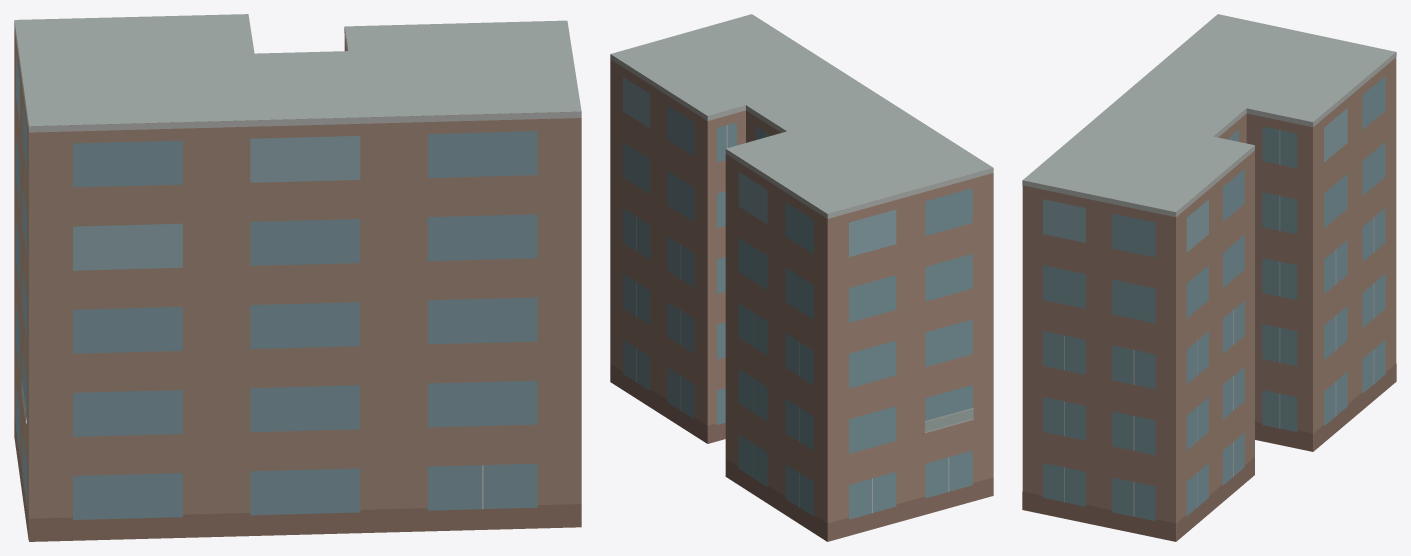
File: survey-upis-32885219.glb
3 views of the same model, side by side, from view 1: azimuth 30°, elevation 25°; view 2: azimuth 150°, elevation 25°; view 3: azimuth 270°, elevation 25° (orthographic). The views are drawn at different scales.
Visible parts, largest first — view 1: survey-upis-32885219.tmp; view 2: survey-upis-32885219.tmp; view 3: survey-upis-32885219.tmp.
Part boxes in pixels (x1,y1,x2,y2): survey-upis-32885219.tmp: (14, 14, 581, 541); survey-upis-32885219.tmp: (610, 14, 993, 541); survey-upis-32885219.tmp: (1022, 14, 1396, 541).
Bounding box in the file's own units: 20.38 × 15.8 × 16.25.
